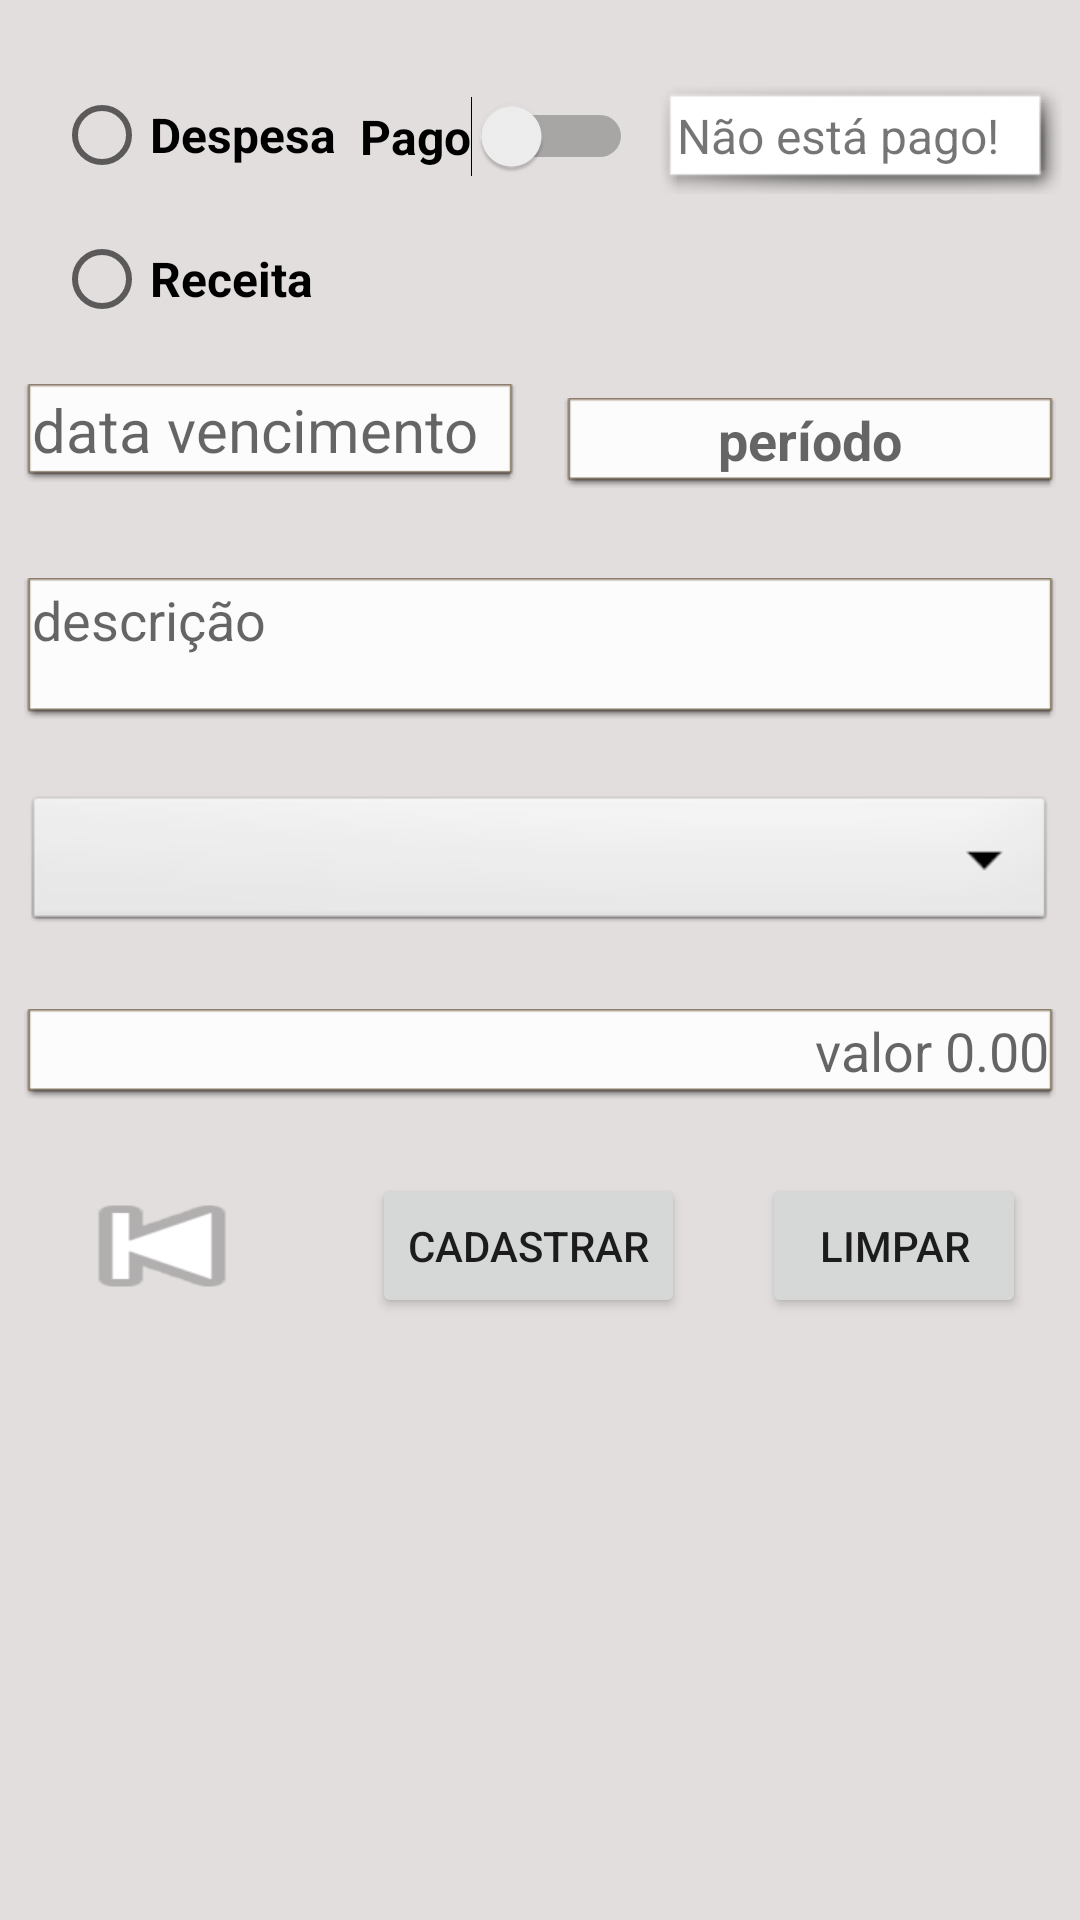

Where icons sit on this 1080w x 1920h app screen, as box=[x1, y1, x2, y2]:
previous: box=[99, 1205, 225, 1287]
